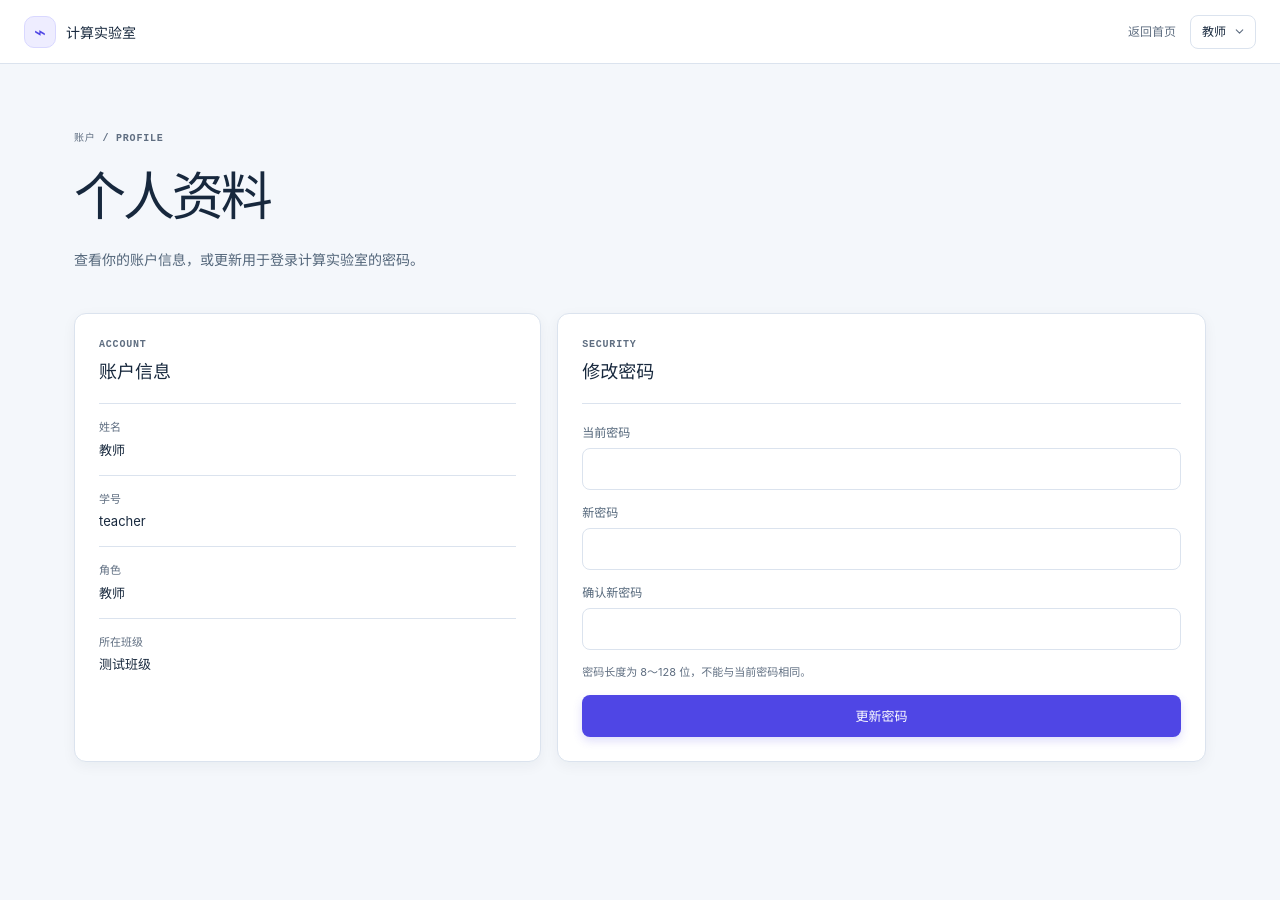
ProfilePage › shows account details and submits a password change
Expected: the heading "个人资料" is shown, [74, 165, 270, 228]
Expected: the text "教师" is shown 3 times, [1202, 22, 1226, 40]; [99, 442, 125, 458]; [99, 584, 125, 600]
Type "old-pass" into the password field labelled "当前密码". click: (882, 469)
box: [582, 448, 1181, 490]
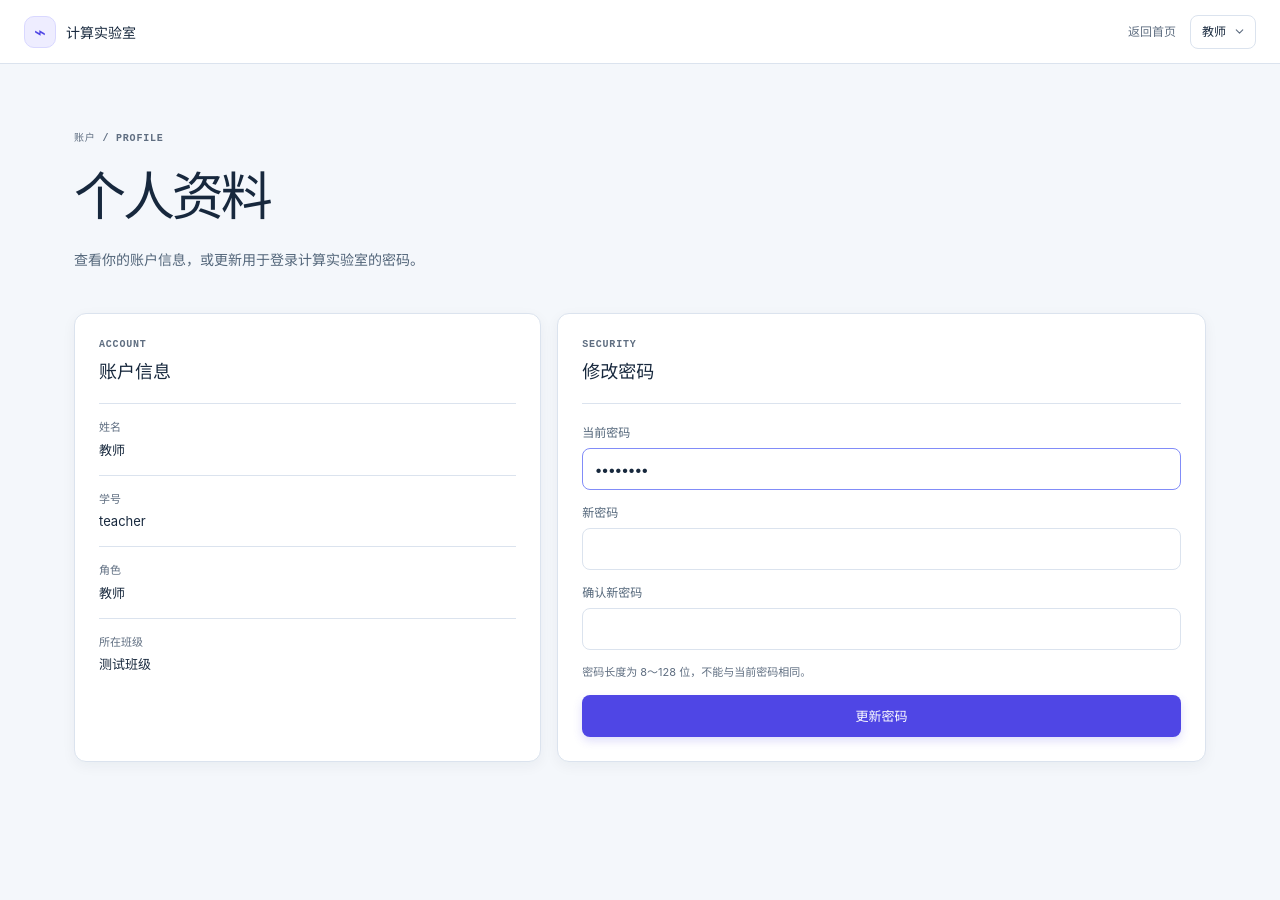
Type "new-pass" into the password field labelled "新密码". click: (882, 549)
box: [582, 528, 1181, 570]
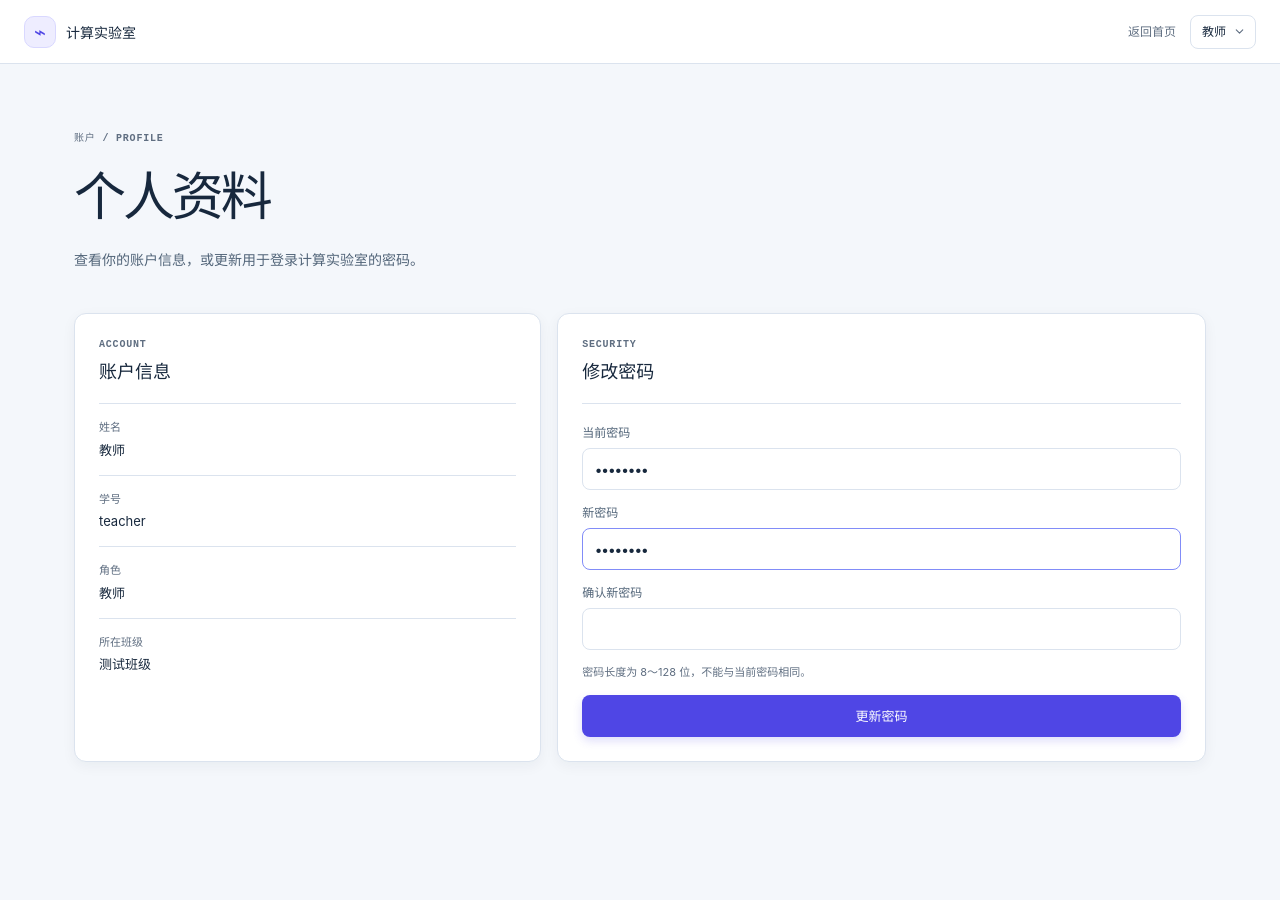
Type "new-pass" into the password field labelled "确认新密码". click: (882, 629)
box: [582, 608, 1181, 650]
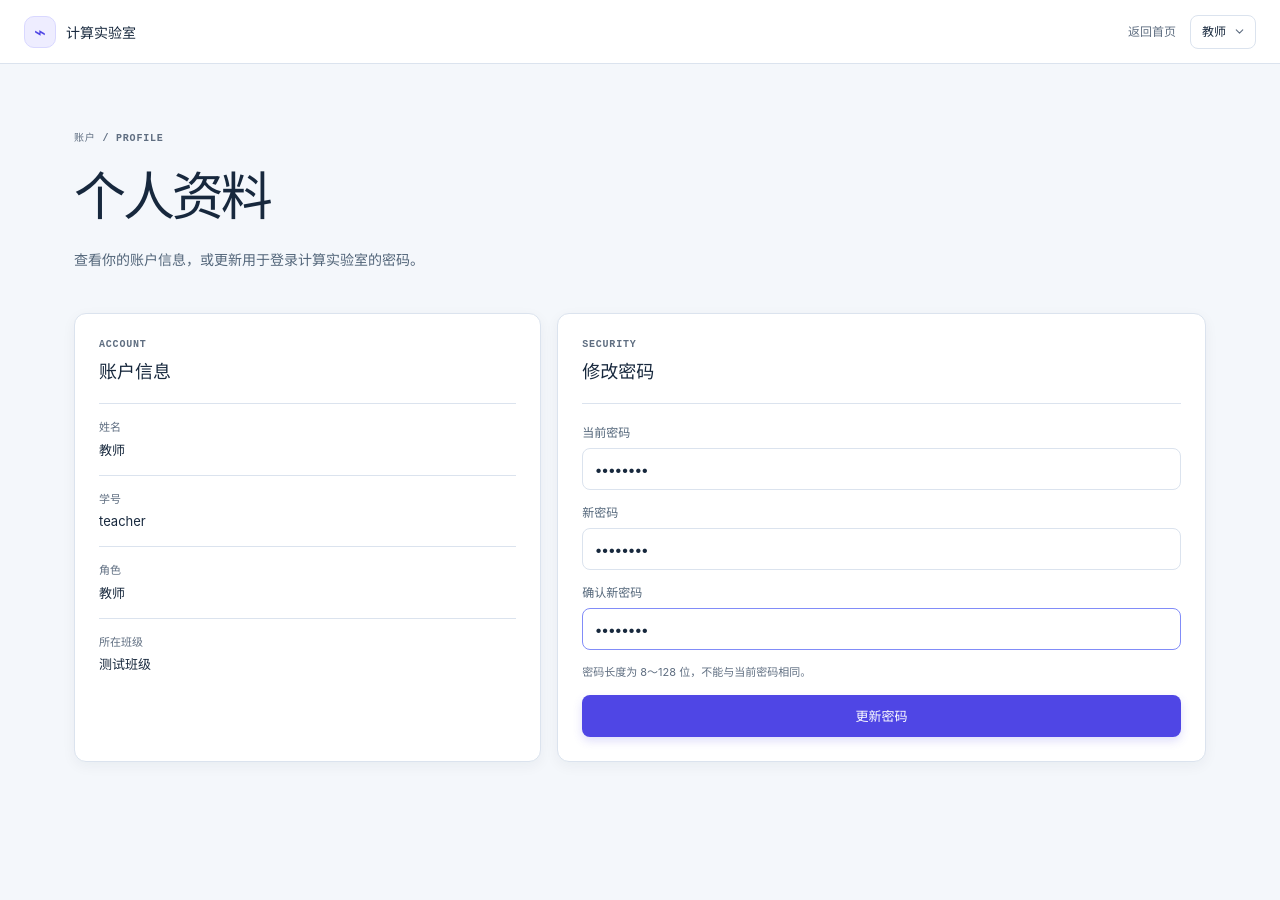
Click the button "更新密码". click: (882, 716)
box: [582, 695, 1181, 737]
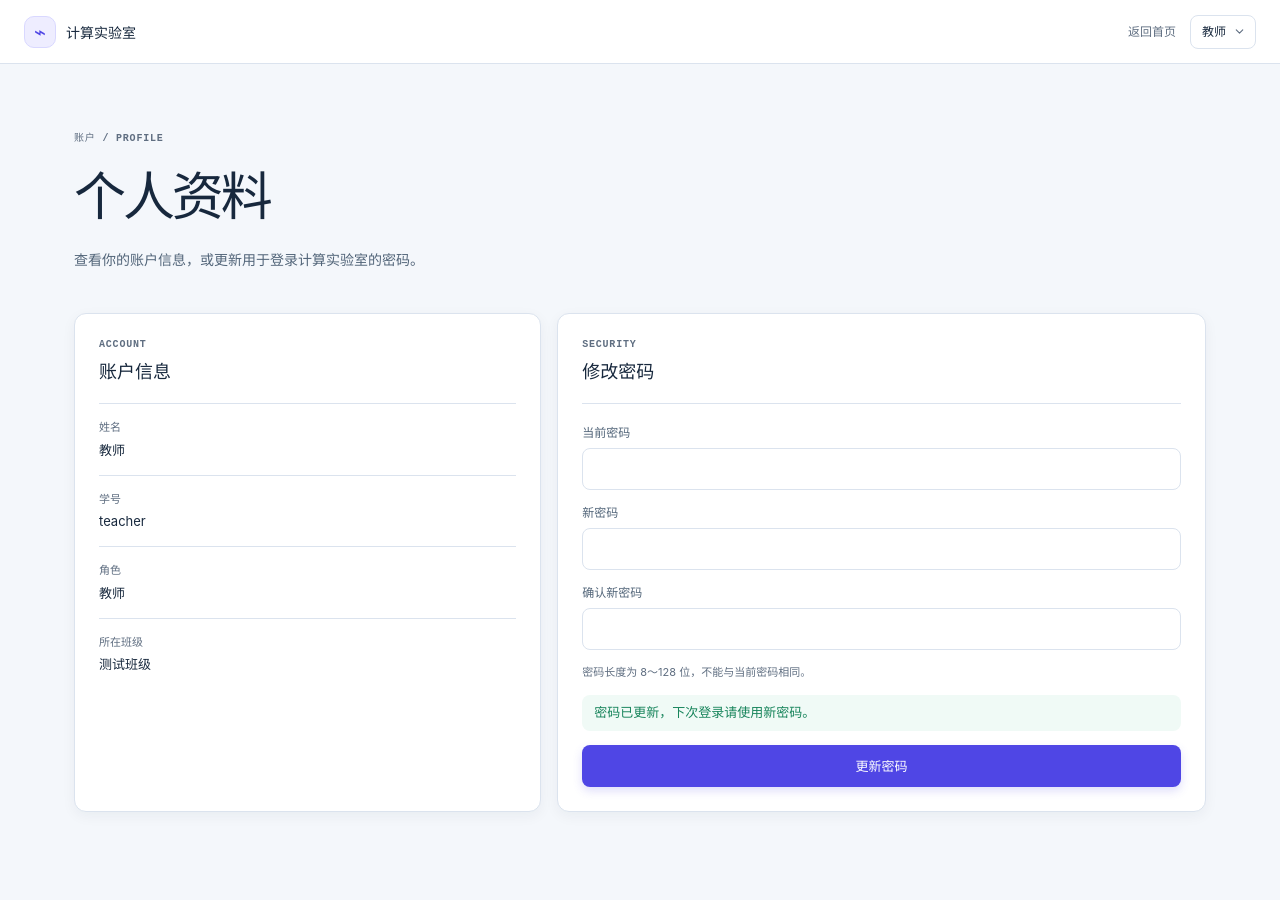
Result: the message shows "密码已更新" at [594, 704, 815, 720]
